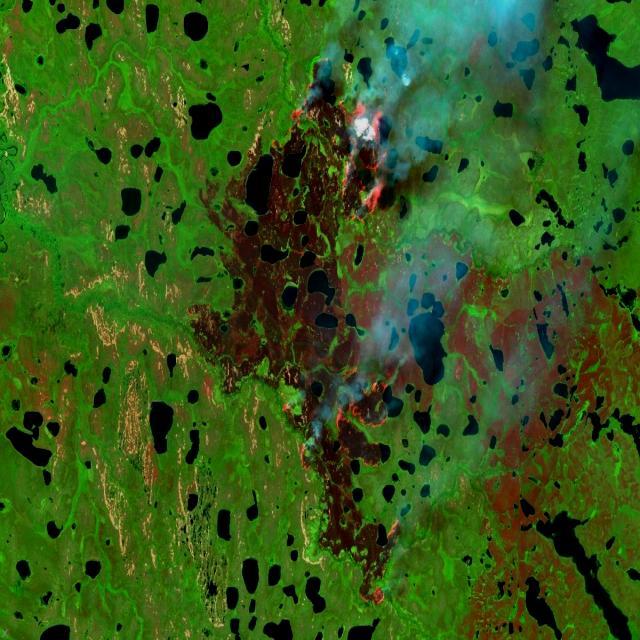fire: (280, 379, 405, 615), (282, 65, 397, 243)
